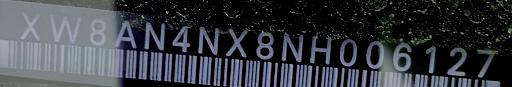letter: (46, 10, 82, 45), (16, 8, 44, 44), (113, 16, 139, 49), (309, 34, 335, 67), (224, 25, 248, 60), (280, 30, 304, 65), (142, 19, 166, 52), (390, 40, 412, 75), (446, 45, 468, 80), (196, 24, 220, 55), (336, 36, 358, 69), (476, 46, 496, 81), (170, 24, 194, 53), (253, 29, 275, 60), (364, 38, 384, 71), (86, 17, 108, 46), (423, 44, 437, 76)
